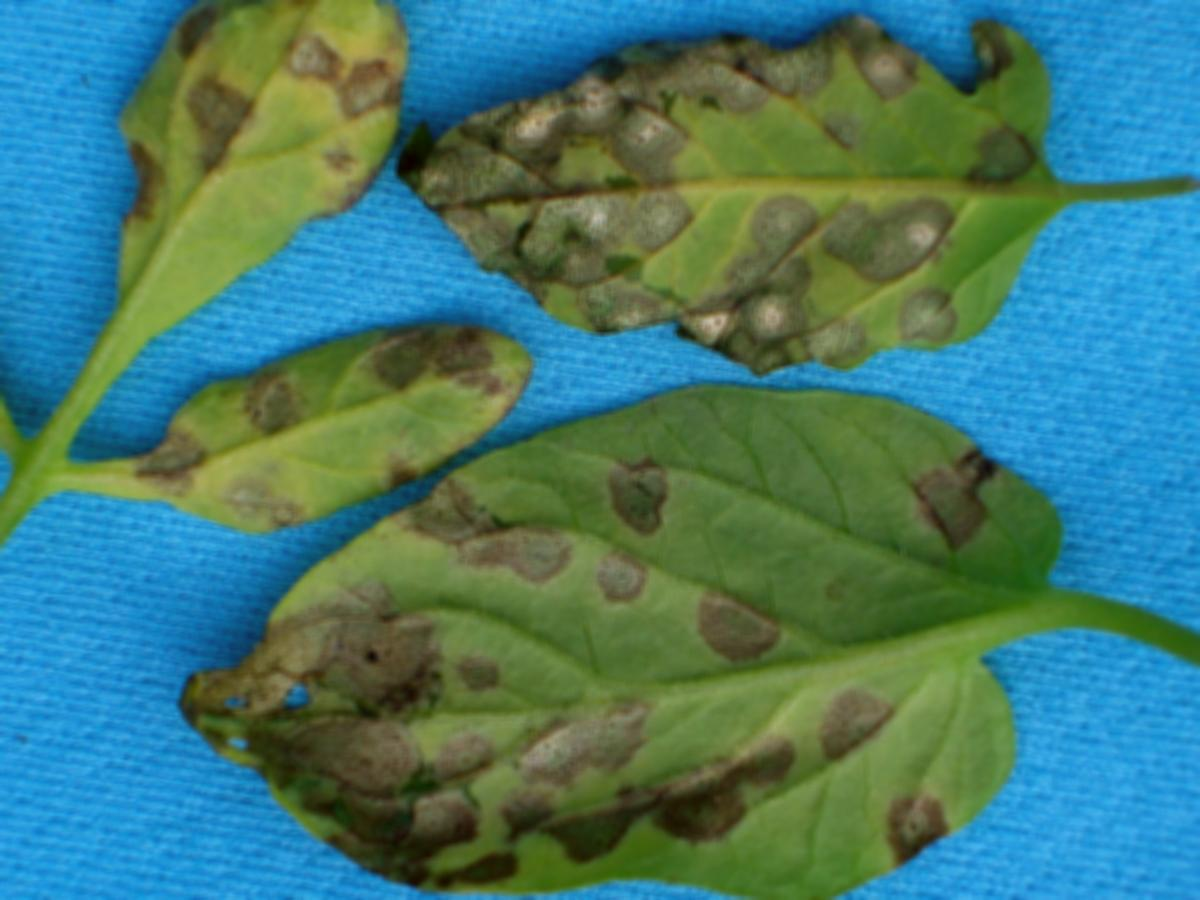Tomato Septoria leaf spot: (163, 378, 1094, 887), (372, 9, 1165, 377), (101, 0, 393, 375), (128, 316, 546, 539)
